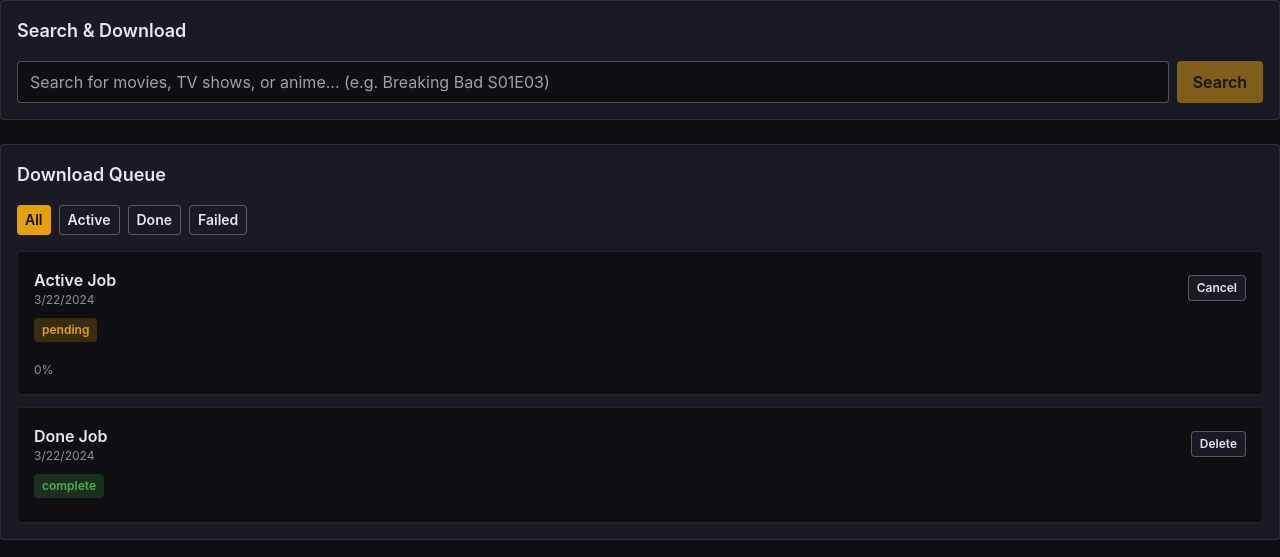
Scenario: QueueTab › Job filter tabs › should filter to show only active jobs
Expected: the text "Active Job" is shown, [34,270,116,290]
Click the button "active": [89, 220] box [58,205,120,235]
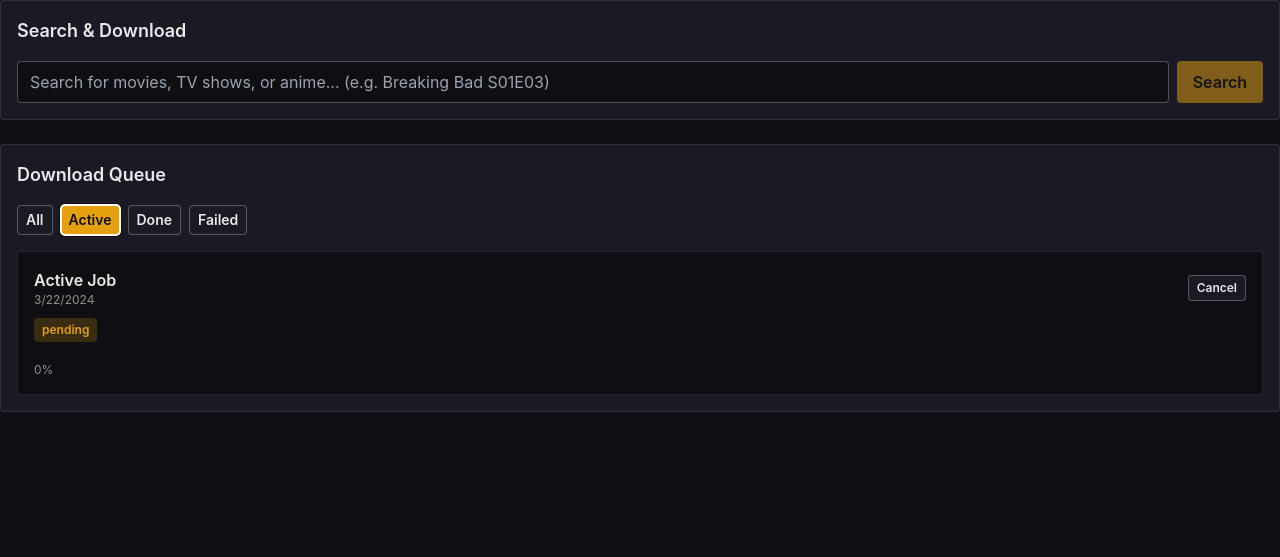
Expected: the text "Active Job" is shown, [34,270,116,290]
Now the text "Done Job" is gone
